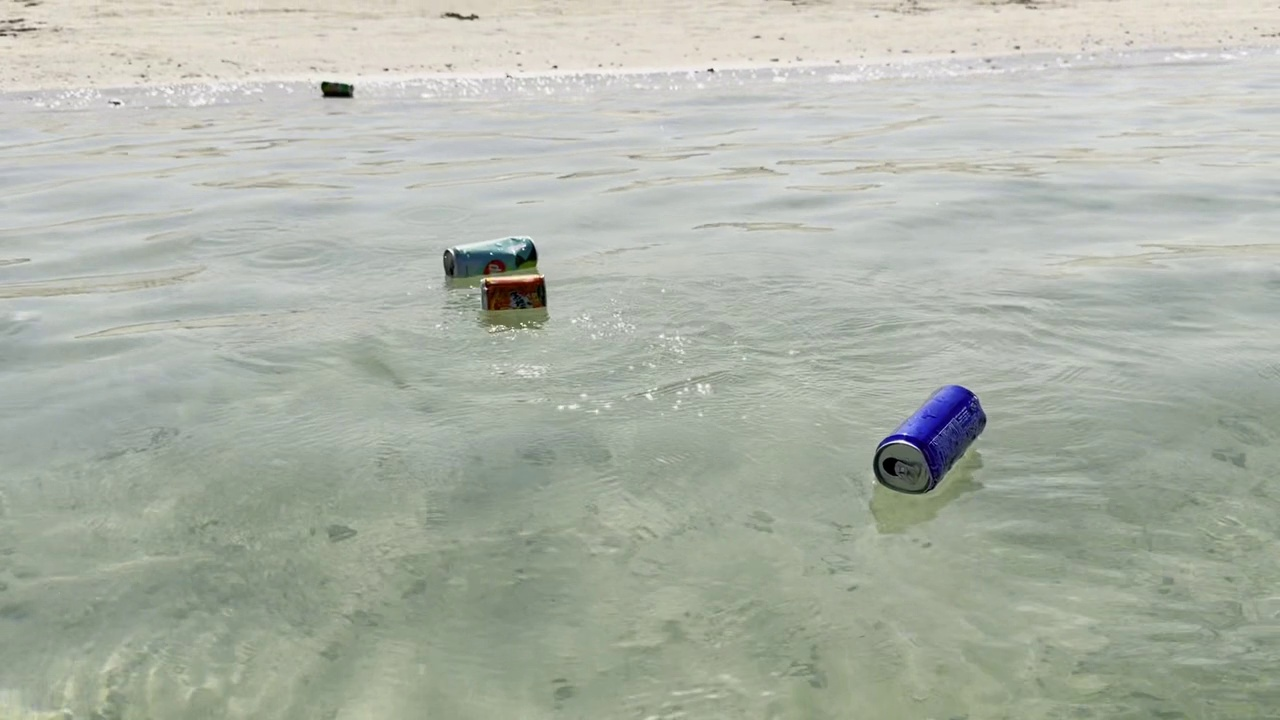debris: (861, 378, 991, 500), (436, 221, 541, 282), (475, 272, 549, 315), (317, 70, 356, 99)
